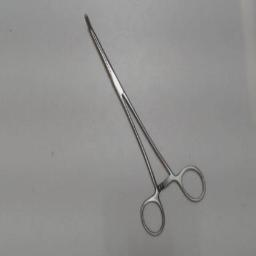Lahey Forceps: (78, 4, 208, 242)
